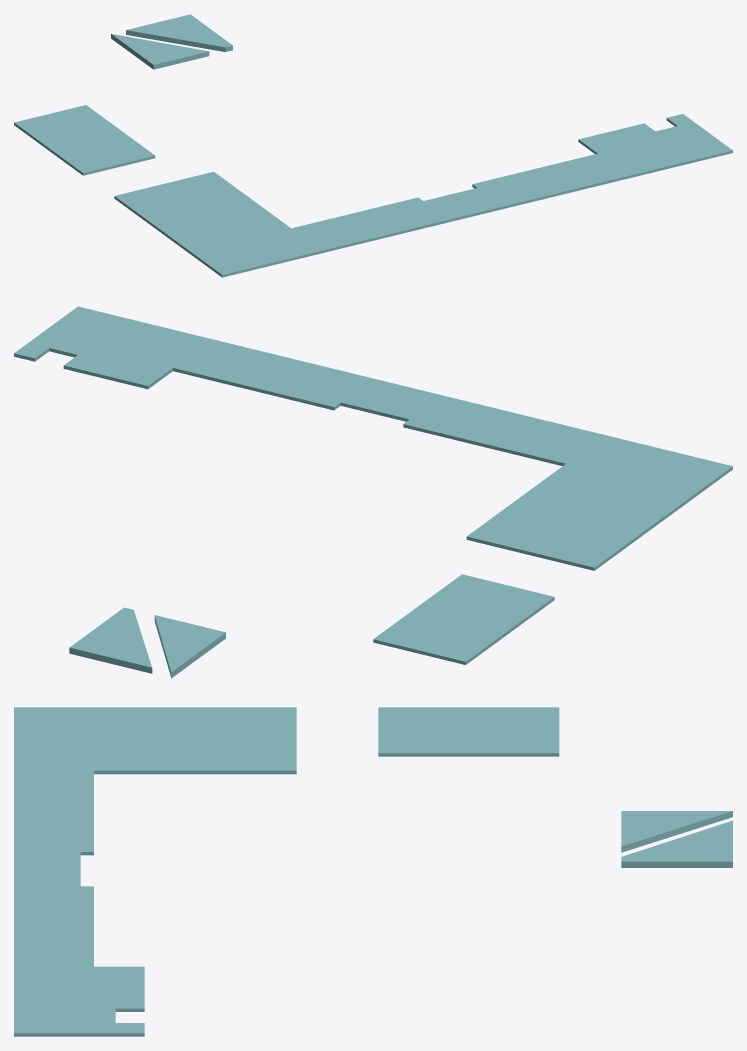
Rendered from SM_Grass.fbx.
3 renders of one model, top to bottom at view 1: azimuth 30°, elevation 25°; view 2: azimuth 150°, elevation 25°; view 3: azimuth 270°, elevation 25°, orthographic. The views are drawn at different scales.
Parts seen in each view (by area): view 1: SM_Grass; view 2: SM_Grass; view 3: SM_Grass.
Boxes of the visible parts, x1=… form: SM_Grass: x1=14, y1=14, x2=732, y2=277; SM_Grass: x1=14, y1=306, x2=732, y2=678; SM_Grass: x1=14, y1=707, x2=732, y2=1036.
Bounding box in the file's own units: 358 × 3.2 × 333.
